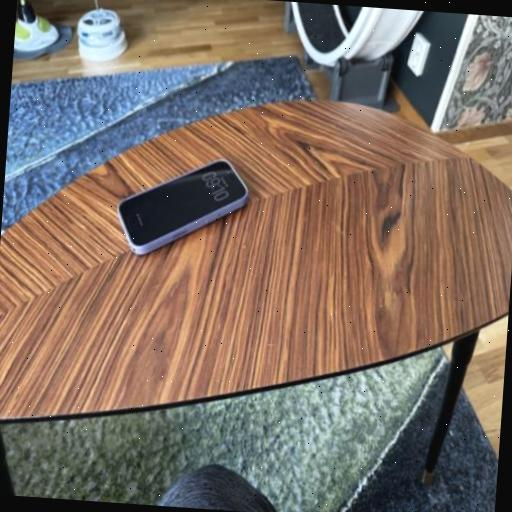phone: (112, 148, 269, 260)
